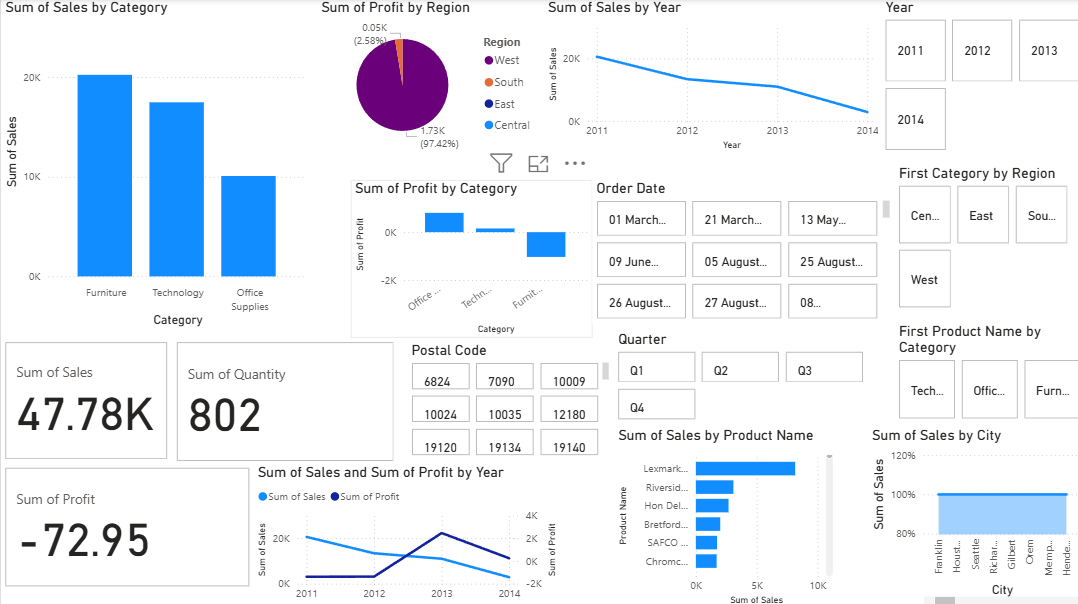

This screenshot's page, from the dashboard's own definition file:
{"tool":"powerbi","page":{"name":"Page 1","canvas":[1280,720],"ordinal":0},"visuals":[{"type":"clusteredColumnChart","fields":{"Category":["Orders.Category"],"Y":["Sum(Orders.Sales)"]},"box":[0,0,366.7,391.7],"z":0},{"type":"lineChart","fields":{"Category":["Orders.Order Date.Variation.Date Hierarchy.Year","Orders.Order Date.Variation.Date Hierarchy.Quarter","Orders.Order Date.Variation.Date Hierarchy.Month","Orders.Order Date.Variation.Date Hierarchy.Day"],"Y":["Sum(Orders.Sales)"]},"box":[640,0,400,183.3],"z":1000},{"type":"pieChart","fields":{"Category":["Orders.Region"],"Y":["Sum(Orders.Profit)"]},"box":[373.3,0,266.7,183.3],"z":2000},{"type":"cardVisual","fields":{"Data":["Sum(Orders.Sales)"]},"box":[0,400,201.7,148.3],"z":3000},{"type":"cardVisual","fields":{"Data":["Sum(Orders.Profit)"]},"box":[0,548.3,298.3,150],"z":4000},{"type":"cardVisual","fields":{"Data":["Sum(Orders.Quantity)"]},"box":[201.7,400,266.7,150],"z":5000},{"type":"lineChart","fields":{"Category":["Orders.Order Date.Variation.Date Hierarchy.Year","Orders.Order Date.Variation.Date Hierarchy.Quarter","Orders.Order Date.Variation.Date Hierarchy.Month","Orders.Order Date.Variation.Date Hierarchy.Day"],"Y":["Sum(Orders.Sales)"],"Y2":["Sum(Orders.Profit)"]},"box":[298.3,548.3,363.3,171.7],"z":6000},{"type":"barChart","fields":{"Category":["Orders.Product Name"],"Y":["Sum(Orders.Sales)"]},"box":[723.3,505,263.3,215],"z":7000},{"type":"columnChart","fields":{"Category":["Orders.Category"],"Y":["Sum(Orders.Profit)"]},"box":[413.3,213.3,285,186.7],"z":9000},{"type":"advancedSlicerVisual","fields":{"Values":["Orders.Year"]},"box":[1040,0,240,183.3],"z":10000},{"type":"advancedSlicerVisual","fields":{"Values":["Orders.Region"]},"box":[1055,196.7,210,175],"z":11000},{"type":"advancedSlicerVisual","fields":{"Values":["Orders.Category"]},"box":[1055,383.3,225,118.3],"z":12000},{"type":"advancedSlicerVisual","fields":{"Values":["Orders.Order Date"]},"box":[698.3,213.3,356.7,170],"z":13001},{"type":"advancedSlicerVisual","fields":{"Values":["Orders.Postal Code"]},"box":[480,405,243.3,140],"z":13002},{"type":"advancedSlicerVisual","fields":{"Values":["Orders.Quarter"]},"box":[723.3,391.7,300,110],"z":13003},{"type":"hundredPercentStackedAreaChart","fields":{"Category":["Orders.City"],"Y":["Sum(Orders.Sales)"]},"box":[1023.3,505,256.7,215],"z":13004}]}

Visuals, with their boxes in screenshot pixels (x1, y1, x2, y2), scaled from the page's 1280x720 canvas onto the 1078x604 screenshot:
clusteredColumnChart - Orders.Category x Sum(Orders.Sales): pyautogui.locateOnScreen(0, 0, 309, 329)
lineChart - Orders.Order Date.Variation.Date Hierarchy.Year x Orders.Order Date.Variation.Date Hierarchy.Quarter: pyautogui.locateOnScreen(539, 0, 876, 154)
pieChart - Orders.Region x Sum(Orders.Profit): pyautogui.locateOnScreen(314, 0, 539, 154)
cardVisual - Sum(Orders.Sales): pyautogui.locateOnScreen(0, 336, 170, 460)
cardVisual - Sum(Orders.Profit): pyautogui.locateOnScreen(0, 460, 251, 586)
cardVisual - Sum(Orders.Quantity): pyautogui.locateOnScreen(170, 336, 394, 461)
lineChart - Orders.Order Date.Variation.Date Hierarchy.Year x Orders.Order Date.Variation.Date Hierarchy.Quarter: pyautogui.locateOnScreen(251, 460, 557, 603)
barChart - Orders.Product Name x Sum(Orders.Sales): pyautogui.locateOnScreen(609, 424, 831, 603)
columnChart - Orders.Category x Sum(Orders.Profit): pyautogui.locateOnScreen(348, 179, 588, 336)
advancedSlicerVisual - Orders.Year: pyautogui.locateOnScreen(876, 0, 1077, 154)
advancedSlicerVisual - Orders.Region: pyautogui.locateOnScreen(889, 165, 1065, 312)
advancedSlicerVisual - Orders.Category: pyautogui.locateOnScreen(889, 322, 1077, 421)
advancedSlicerVisual - Orders.Order Date: pyautogui.locateOnScreen(588, 179, 889, 322)
advancedSlicerVisual - Orders.Postal Code: pyautogui.locateOnScreen(404, 340, 609, 457)
advancedSlicerVisual - Orders.Quarter: pyautogui.locateOnScreen(609, 329, 862, 421)
hundredPercentStackedAreaChart - Orders.City x Sum(Orders.Sales): pyautogui.locateOnScreen(862, 424, 1077, 603)
